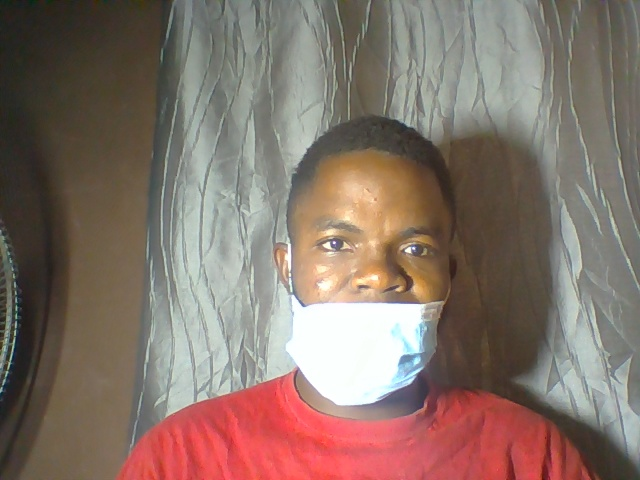MaskOff: (270, 111, 464, 407)
